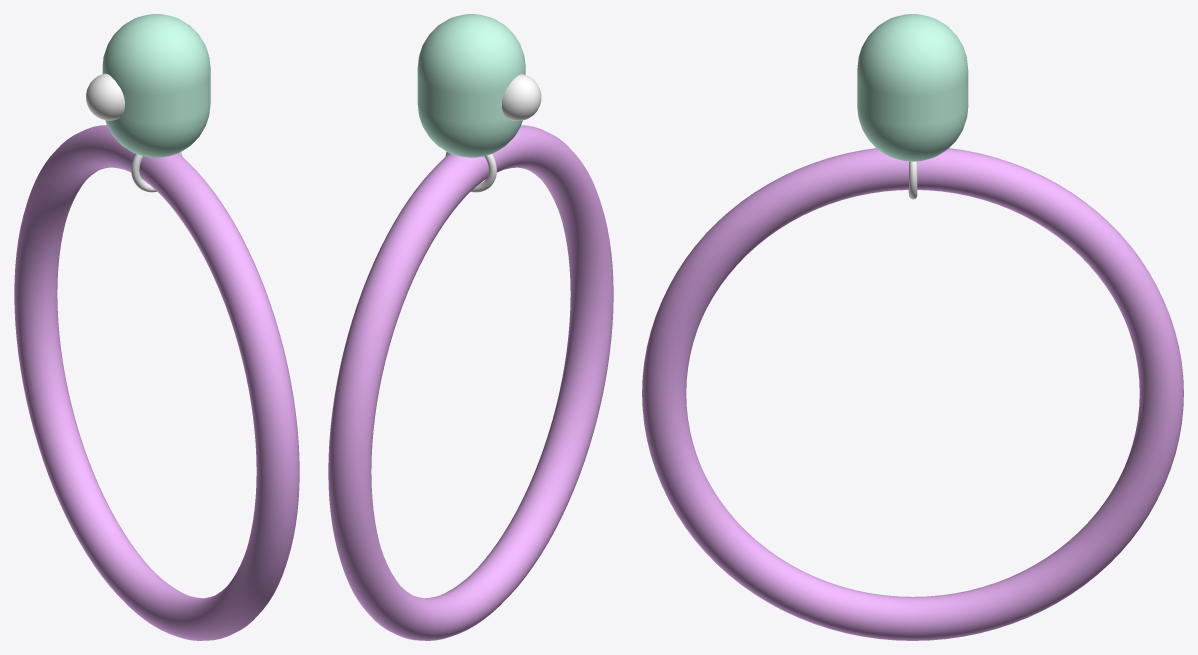
The model's file is earringarppink.glb.
The picture shows the model from 3 angles, left to right: view 1: azimuth 30°, elevation 25°; view 2: azimuth 150°, elevation 25°; view 3: azimuth 270°, elevation 25°; orthographic projection. The views are drawn at different scales.
Parts seen in each view (by area): view 1: Object_2, Object_3, Object_4; view 2: Object_2, Object_3, Object_4; view 3: Object_2, Object_3.
Part boxes in pixels (x1,y1,x2,y2): Object_2: [14, 125, 299, 640]; Object_3: [102, 14, 210, 157]; Object_4: [86, 73, 182, 192]; Object_2: [328, 125, 613, 640]; Object_3: [417, 14, 525, 157]; Object_4: [445, 74, 541, 192]; Object_2: [642, 148, 1183, 640]; Object_3: [857, 14, 968, 161].
Size of the model in its own units: 50.27 by 255 by 202.
